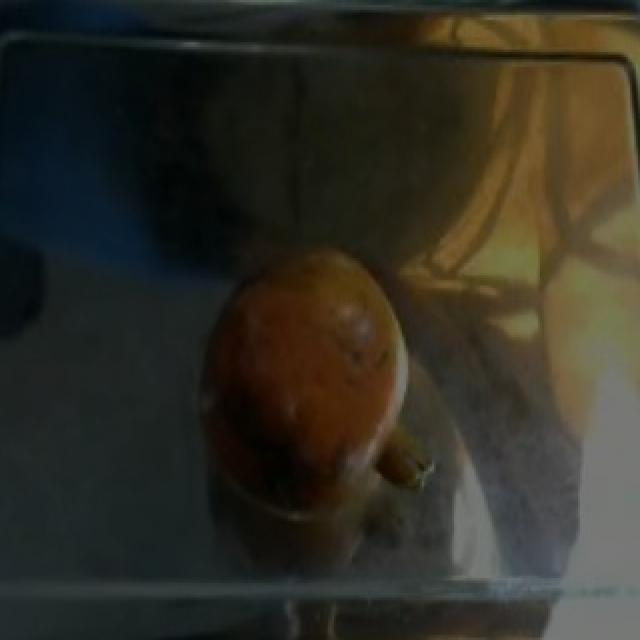fruit: (176, 221, 428, 479)
